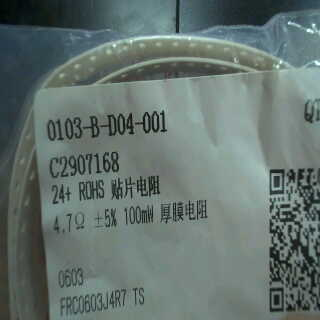4.7R: (49, 208, 90, 238)
